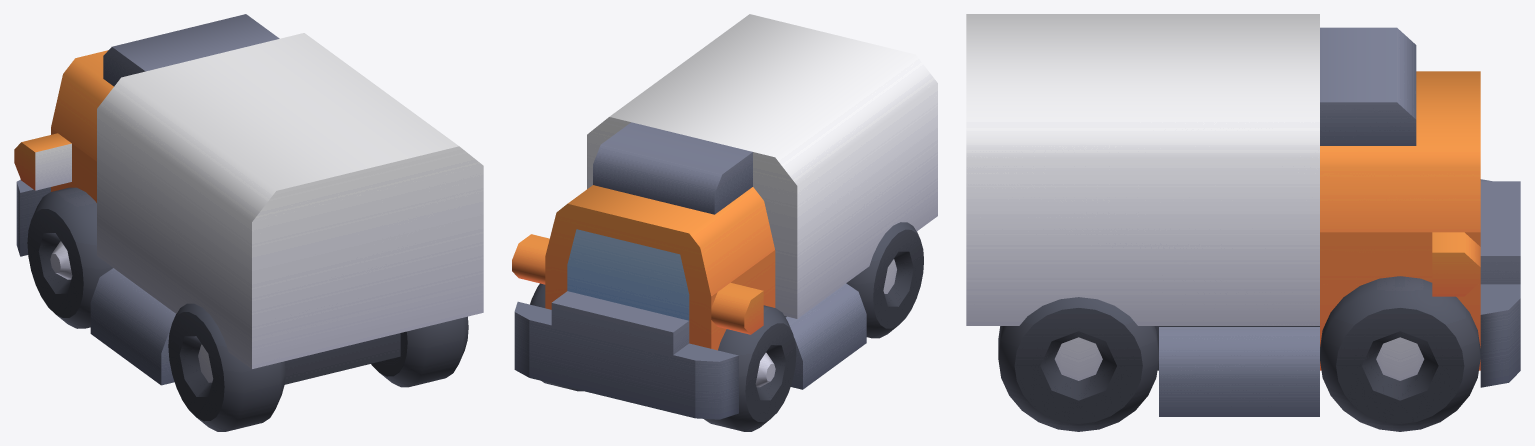
Rendered from vehicle-truck.glb.
3 views of the same model, side by side, from view 1: azimuth 30°, elevation 25°; view 2: azimuth 150°, elevation 25°; view 3: azimuth 270°, elevation 25° (orthographic). The views are drawn at different scales.
Parts seen in each view (by area): view 1: vehicle-truck, wheel-bl, wheel-fl, wheel-br; view 2: vehicle-truck, wheel-fl, wheel-bl; view 3: vehicle-truck, wheel-fr, wheel-br.
Boxes of the visible parts, left/top/right/bottom form: vehicle-truck: left=14, top=14, right=483, bottom=385; wheel-bl: left=168, top=303, right=285, bottom=431; wheel-fl: left=27, top=187, right=112, bottom=328; wheel-br: left=371, top=316, right=468, bottom=387; vehicle-truck: left=512, top=14, right=937, bottom=419; wheel-fl: left=704, top=305, right=796, bottom=431; wheel-bl: left=846, top=222, right=923, bottom=338; vehicle-truck: left=966, top=14, right=1520, bottom=416; wheel-fr: left=1320, top=276, right=1480, bottom=431; wheel-br: left=998, top=297, right=1158, bottom=431.
Size of the model in its own units: 0.525 by 0.525 by 0.8625.
1 material, 1 textured.
